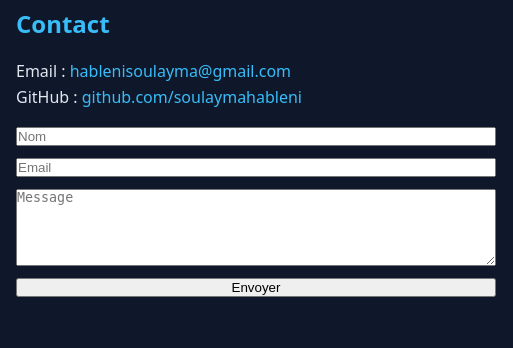
Test: Formulaire Contact › affiche le succès quand l'API répond 201
Type "Soulayma" into the field with placeholder "Nom" at (256, 136), box [16,127,496,146]
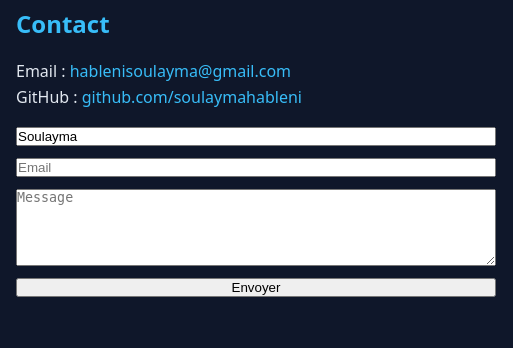
Type "test@example.com" into the field with placeholder "Email" at (256, 167), box [16,158,496,177]
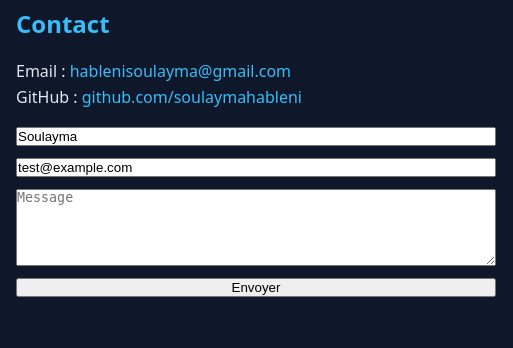
Type "Bonjour, ceci est un test" into the text box with placeholder "Message" at (256, 227), box [16,189,496,266]
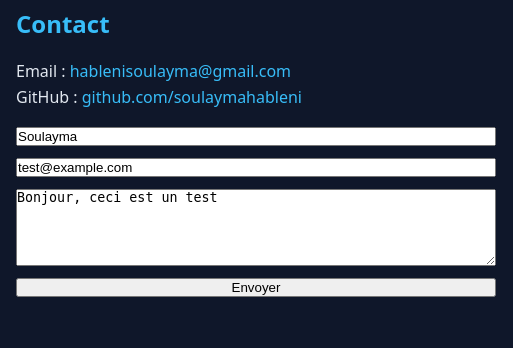
Click the button "Envoyer" at (256, 287), box [16,278,496,297]
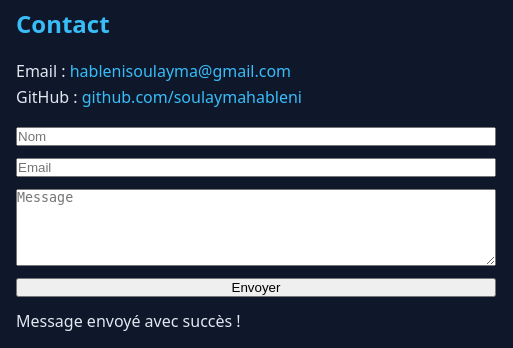
Expected: the text "Message envoyé avec succès !" is shown, [16,310,241,332]
